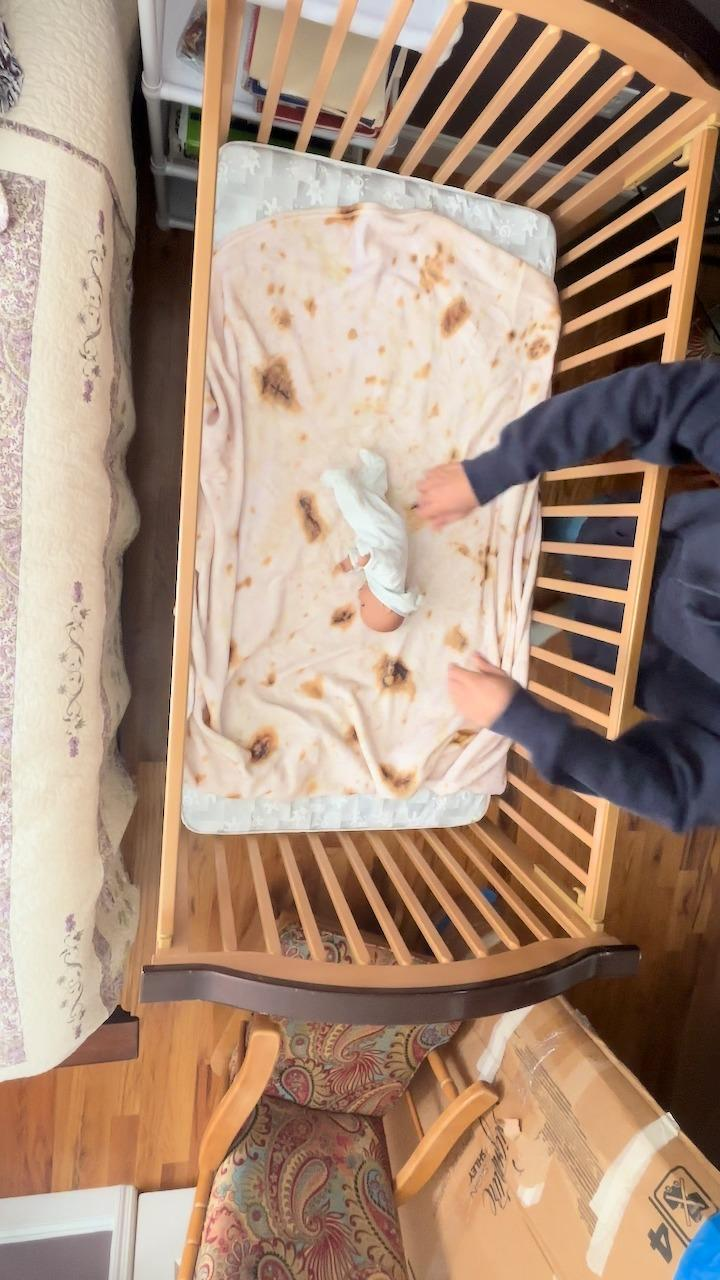baby: (316, 444, 426, 636)
